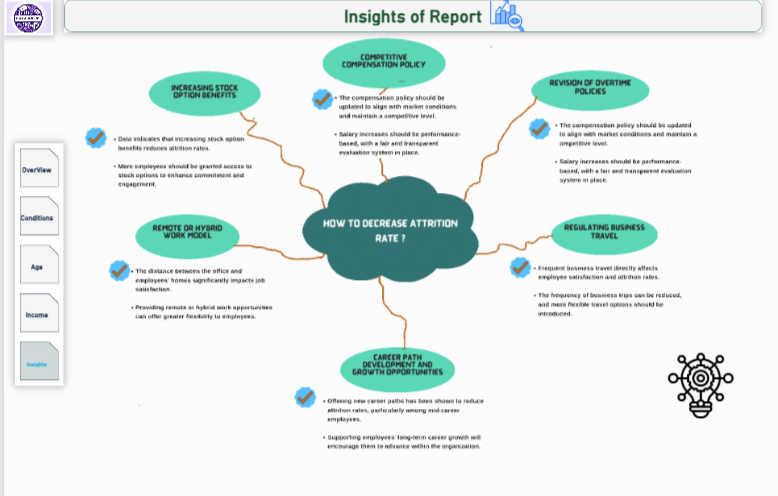

What the dashboard file says about the page in this screenshot:
{"tool":"powerbi","page":{"name":"Insights","canvas":[1600,1050],"ordinal":4},"visuals":[{"type":"pageNavigator","box":[23.3,304.2,100.2,501],"z":0},{"type":"shape","title":"Workforce Planning","box":[123.5,5.4,1442.2,68],"z":1000},{"type":"image","box":[0,5.4,102,75.2],"z":2000},{"type":"image","box":[981.7,0,116.7,80],"z":3000},{"type":"image","box":[1358,730,164,150],"z":4000}]}

Visuals, with their boxes on the page's 1600x1050 design canvas (x1, y1, x2, y2). These are canvas units, not pixel positions in the 778x496 screenshot, which may show the page scaled, cropped or inside an application window:
pageNavigator: 23, 304, 124, 805
"Workforce Planning" shape: 124, 5, 1566, 73
image: 0, 5, 102, 81
image: 982, 0, 1098, 80
image: 1358, 730, 1522, 880
